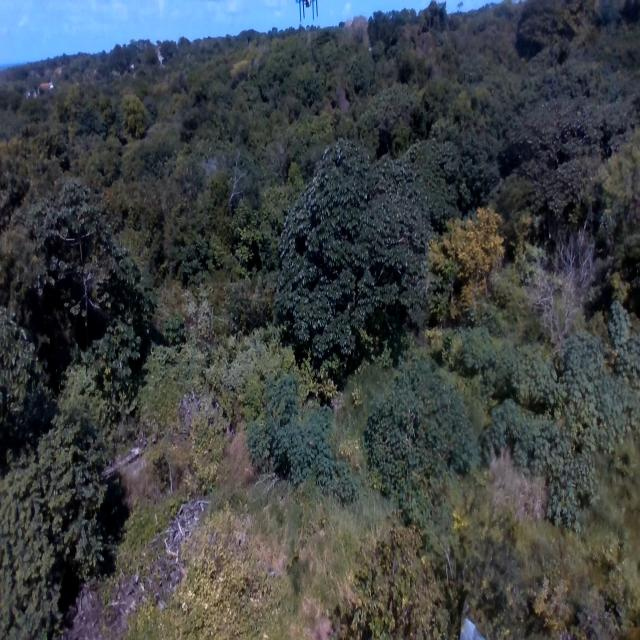-uav-: (292, 2, 324, 25)
